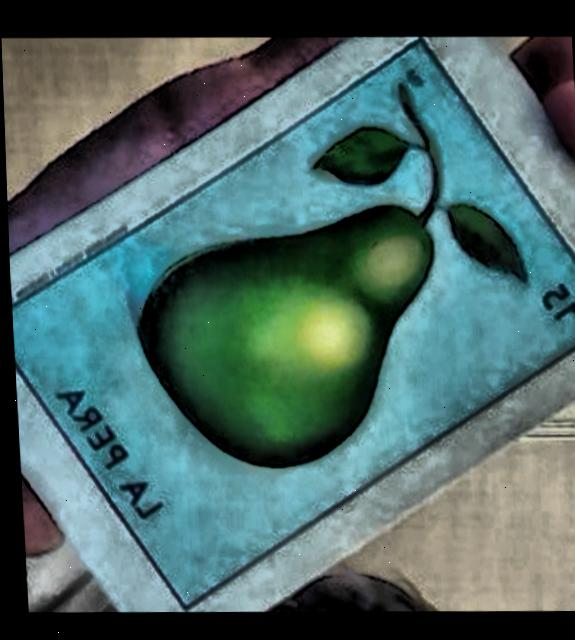La Pera: (9, 37, 575, 604)
